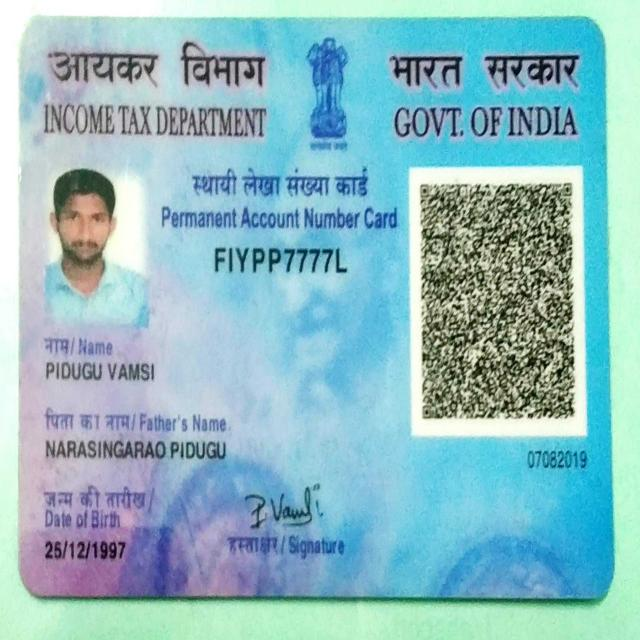pan_card: (22, 22, 605, 595)
